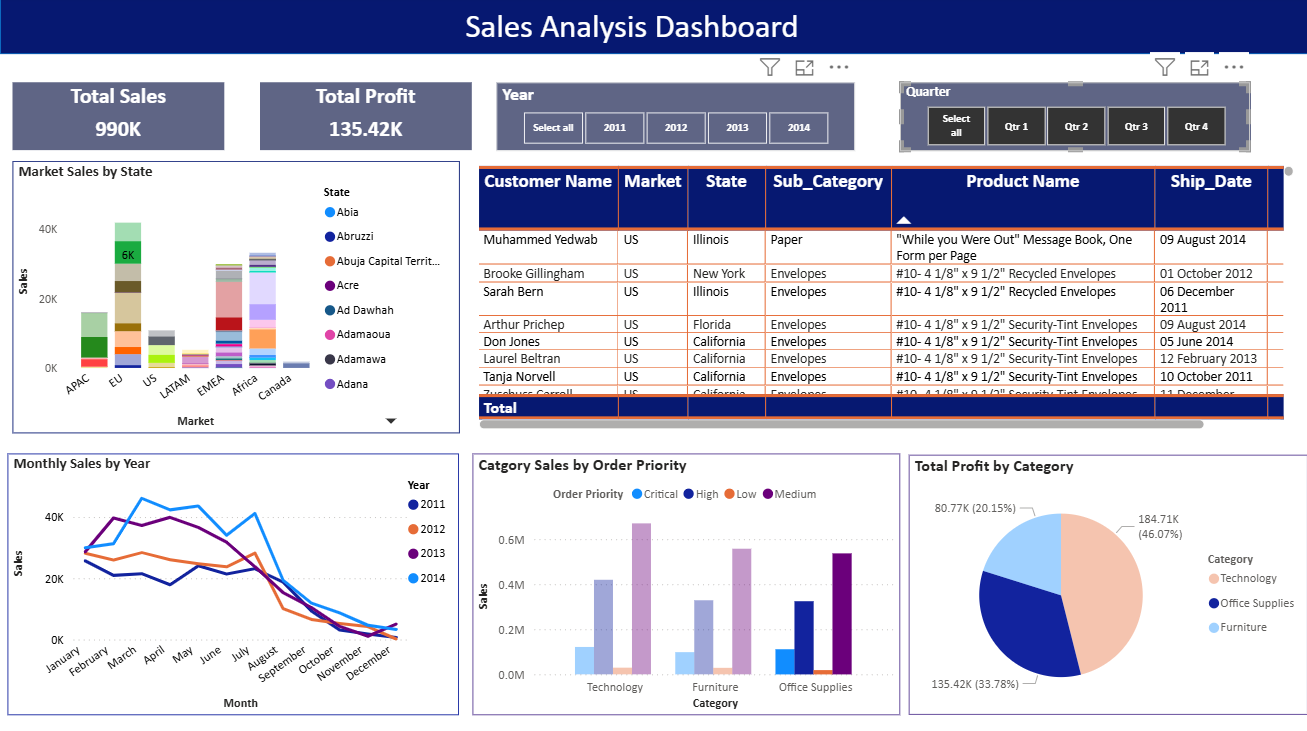

This screenshot's page, from the dashboard's own definition file:
{"tool":"powerbi","page":{"name":"SalesAnalysis","canvas":[1280,720],"ordinal":0},"visuals":[{"type":"card","title":"Total Sales","fields":{"Values":["SuperStoreOrders2.sales"]},"box":[12.8,84.9,207,66.3],"z":0},{"type":"card","title":"Total Profit","fields":{"Values":["SuperStoreOrders2.profit"]},"box":[254.7,84.9,207,66.3],"z":1000},{"type":"slicer","title":"Year","fields":{"Values":["SuperStoreOrders2.year"]},"box":[486,84.9,350,66.3],"z":2000},{"type":"tableEx","fields":{"Values":["SuperStoreOrders2.customer_name","SuperStoreOrders2.market","SuperStoreOrders2.state","SuperStoreOrders2.sub_category","SuperStoreOrders2.product_name","SuperStoreOrders2.ship_date","SuperStoreOrders2.sales"]},"box":[462,161.1,807.9,267],"z":3000},{"type":"columnChart","title":"Market Sales by State","fields":{"Y":["SuperStoreOrders2.sales"],"Category":["SuperStoreOrders2.market"],"Series":["SuperStoreOrders2.state"]},"box":[12.3,161.9,437.7,266.2],"z":4000},{"type":"lineChart","title":"Monthly Sales by Year","fields":{"Y":["SuperStoreOrders2.sales"],"Series":["SuperStoreOrders2.order_date.Variation.Date Hierarchy.Year"],"Category":["SuperStoreOrders2.order_date.Variation.Date Hierarchy.Month"]},"box":[7.9,447.3,441.7,255.8],"z":5000},{"type":"slicer","title":"Quarter","fields":{"Values":["SuperStoreOrders2.order_date.Variation.Date Hierarchy.Quarter"]},"box":[880.2,84.9,343,66.3],"z":6000},{"type":"clusteredColumnChart","title":"Catgory Sales by Order Priority","fields":{"Category":["SuperStoreOrders2.category"],"Y":["SuperStoreOrders2.sales"],"Series":["SuperStoreOrders2.order_priority"]},"box":[461.6,447.7,418.6,255.8],"z":7000},{"type":"pieChart","title":"Total Profit by Category","fields":{"Category":["SuperStoreOrders2.category"],"Y":["SuperStoreOrders2.profit"]},"box":[889.5,448.8,390.7,254.7],"z":8000},{"type":"shape","box":[0,0,1280.2,57],"z":9000},{"type":"textbox","title":"Sales Analysis Dashboard","box":[372.1,9.3,493,38.4],"z":10000}]}

Visuals, with their boxes in screenshot pixels (x1, y1, x2, y2), scaled from the page's 1280x720 canvas onto the 1307x731 screenshot:
"Total Sales" card: Rect(13, 86, 224, 154)
"Total Profit" card: Rect(260, 86, 471, 154)
"Year" slicer: Rect(496, 86, 854, 154)
tableEx - SuperStoreOrders2.customer_name x SuperStoreOrders2.market: Rect(472, 164, 1297, 435)
"Market Sales by State" columnChart: Rect(13, 164, 459, 435)
"Monthly Sales by Year" lineChart: Rect(8, 454, 459, 714)
"Quarter" slicer: Rect(899, 86, 1249, 154)
"Catgory Sales by Order Priority" clusteredColumnChart: Rect(471, 455, 899, 714)
"Total Profit by Category" pieChart: Rect(908, 456, 1306, 714)
shape: Rect(0, 0, 1306, 58)
"Sales Analysis Dashboard" textbox: Rect(380, 9, 883, 48)
